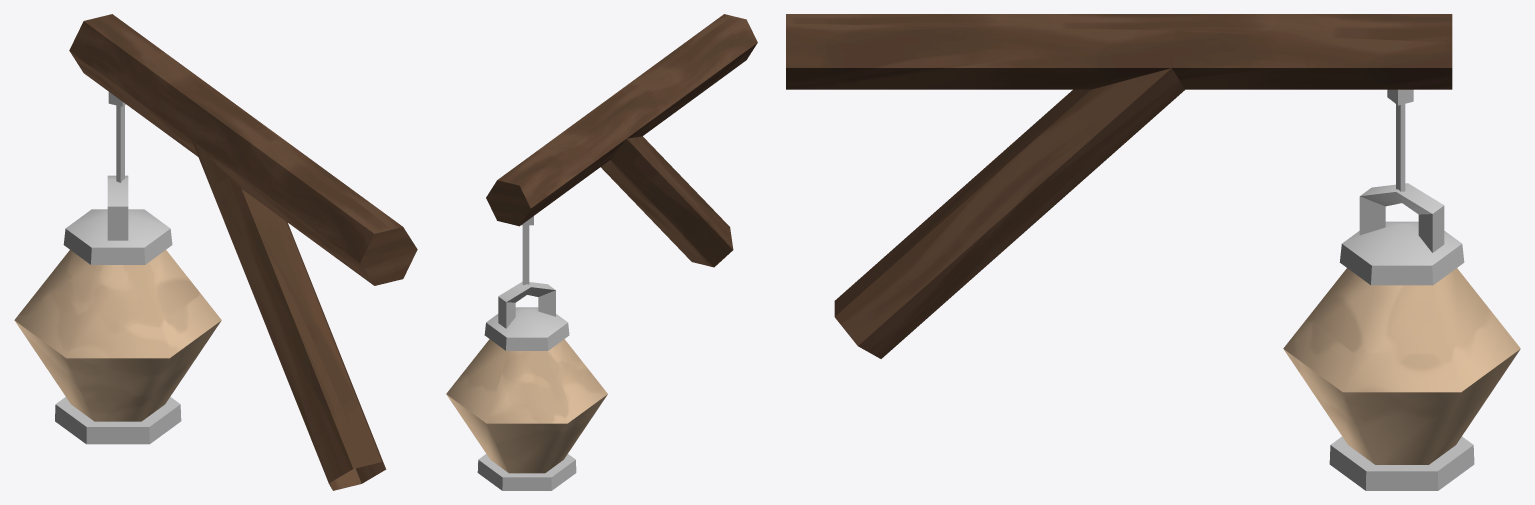
File: Lantern_2.fbx
3 renders of one model, left to right at view 1: azimuth 30°, elevation 25°; view 2: azimuth 150°, elevation 25°; view 3: azimuth 270°, elevation 25°, orthographic. The views are drawn at different scales.
Visible parts, largest first — view 1: _Lantern_2; view 2: _Lantern_2; view 3: _Lantern_2.
Boxes of the visible parts, box(x1,y1,x2,y2) form: _Lantern_2: box(14, 14, 417, 490); _Lantern_2: box(446, 14, 757, 490); _Lantern_2: box(786, 14, 1520, 490).
Bounding box in the file's own units: 22.56 × 53.69 × 80.52.
